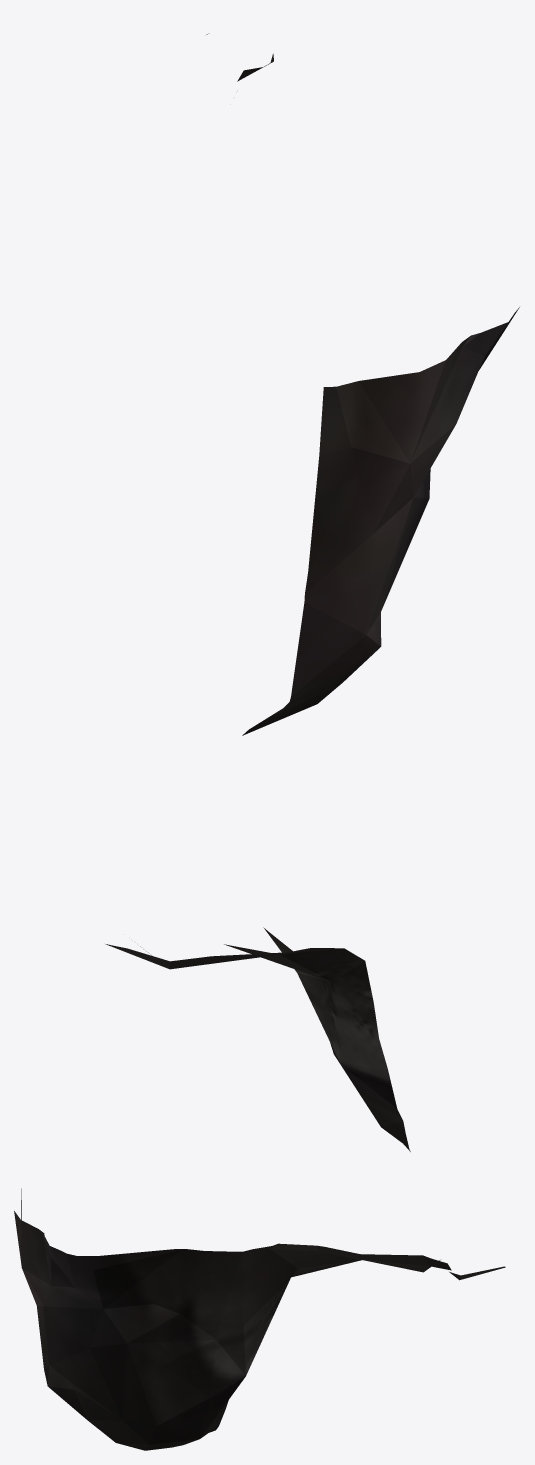
3 renders of one model, top to bottom at view 1: azimuth 30°, elevation 25°; view 2: azimuth 150°, elevation 25°; view 3: azimuth 270°, elevation 25°, orthographic. The views are drawn at different scales.
Bounding box in the file's own units: 0.1555 × 0.202 × 0.3524.
Materials: 1 (1 with a texture image).
